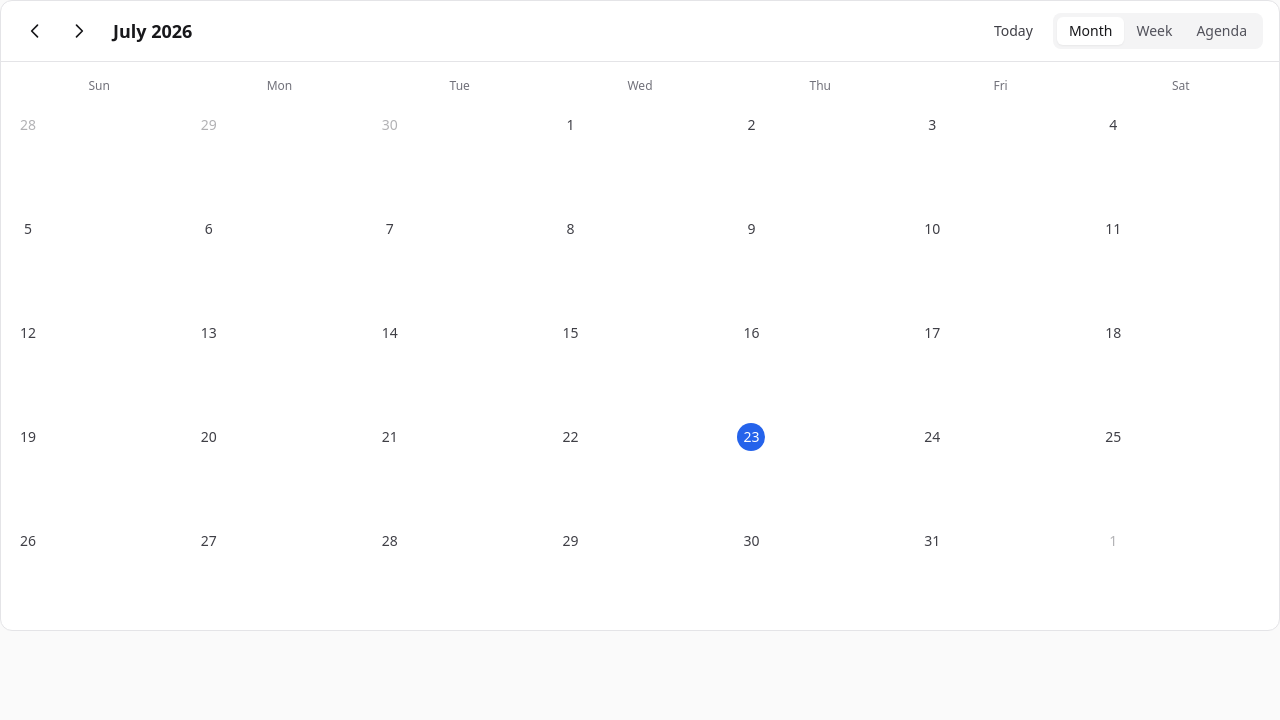
Test: InterviewCalendar › view mode switching › switches to week view when clicking Week button
This screenshot has width=1280, height=720.
Click the button "Week" at (1154, 31), box top-left (1124, 17), bottom-right (1184, 45)
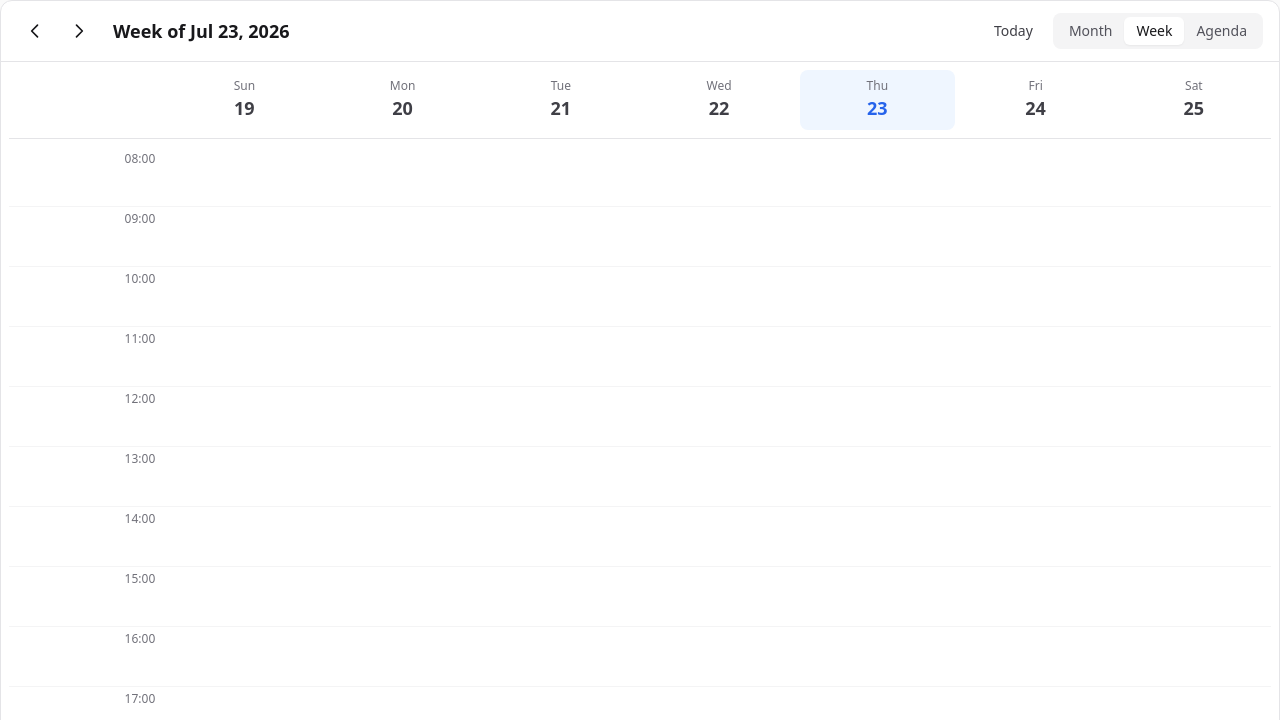
Now the text "08:00" is shown, box top-left (125, 150), bottom-right (155, 167)
Now the text "12:00" is shown, box top-left (125, 390), bottom-right (155, 407)
